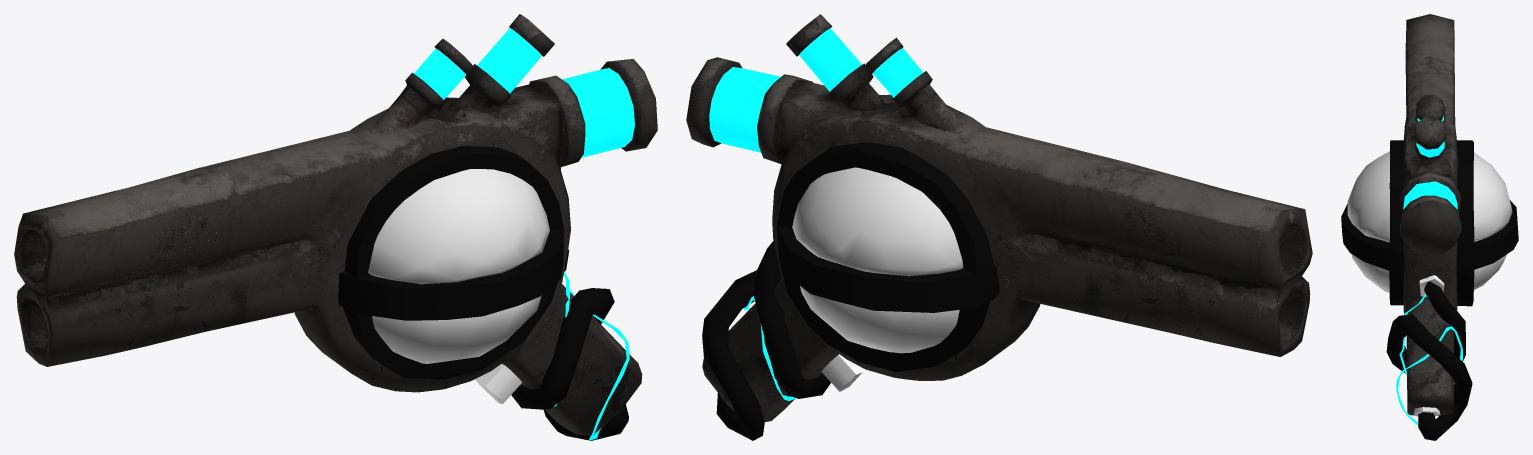
File: PistolaLiquido.fbx
3 renders of one model, left to right at view 1: azimuth 30°, elevation 25°; view 2: azimuth 150°, elevation 25°; view 3: azimuth 270°, elevation 25°, orthographic. The views are drawn at different scales.
Parts seen in each view (by area): view 1: Cylinder.009, Cube.010, Cube.005, Cube.008, Cube.011, Cylinder.008, Cylinder.002, Cylinder.004, Cube.009, Sphere.001; view 2: Cylinder.009, Cube.010, Cube.005, Cube.011, Cube.008, Cylinder.008, Cylinder.002, Cylinder.004, Cube.009; view 3: Cylinder.009, Cube.010, Cube.005, Cube.011, Cube.008, Cylinder.008, Sphere.001, Cube.012, Cylinder.002.
Boxes of the visible parts, x1,y1,x2,y2 form: Cylinder.009: (14,14,657,435); Cube.010: (338,146,563,379); Cube.005: (368,169,549,284); Cube.008: (372,295,541,363); Cube.011: (511,249,628,440); Cylinder.008: (562,68,634,157); Cylinder.002: (477,28,541,93); Cylinder.004: (414,48,465,99); Cube.009: (475,364,522,404); Sphere.001: (554,271,629,440); Cylinder.009: (686,14,1312,422); Cube.010: (777,142,999,371); Cube.005: (792,167,963,276); Cube.011: (702,241,830,440); Cube.008: (800,286,959,353); Cylinder.008: (709,67,780,152); Cylinder.002: (799,28,861,91); Cylinder.004: (873,48,923,97); Cube.009: (821,354,864,391); Cylinder.009: (1399,14,1461,415); Cube.010: (1341,140,1518,306); Cube.005: (1347,151,1512,242); Cube.011: (1386,277,1472,440); Cube.008: (1351,254,1506,292); Cylinder.008: (1403,181,1457,209); Sphere.001: (1396,294,1462,425); Cube.012: (1419,275,1444,297); Cylinder.002: (1416,141,1444,157).
Bounding box in the file's own units: 487 × 341 × 185.
